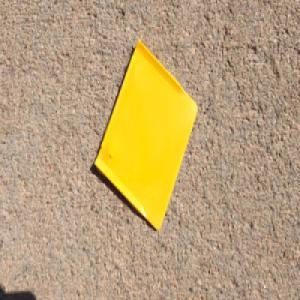PlasticPart: (92, 35, 199, 234)
